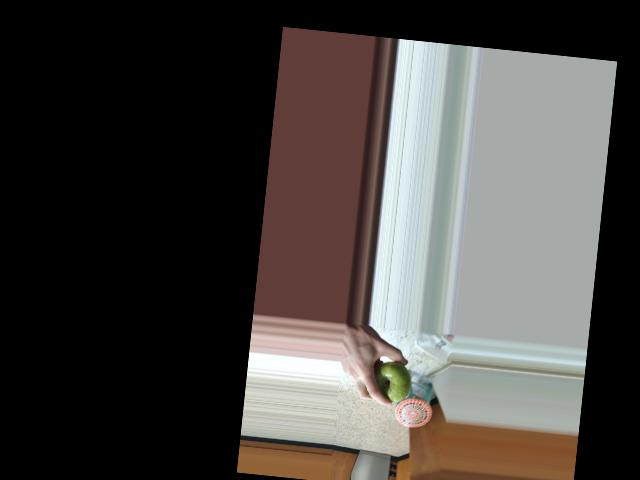apple: (366, 357, 414, 406)
